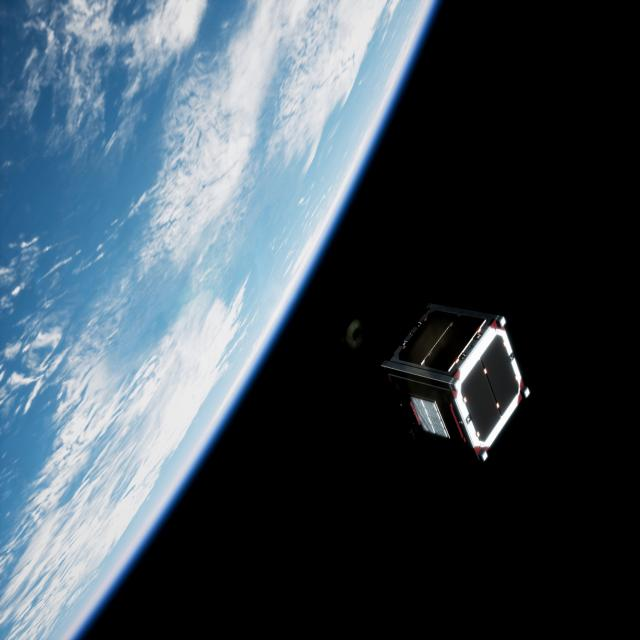medium_debris: (365, 298, 542, 471)
